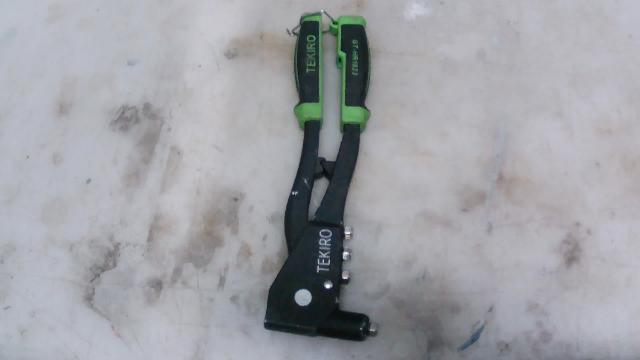tang_rivet: (249, 0, 409, 352)
